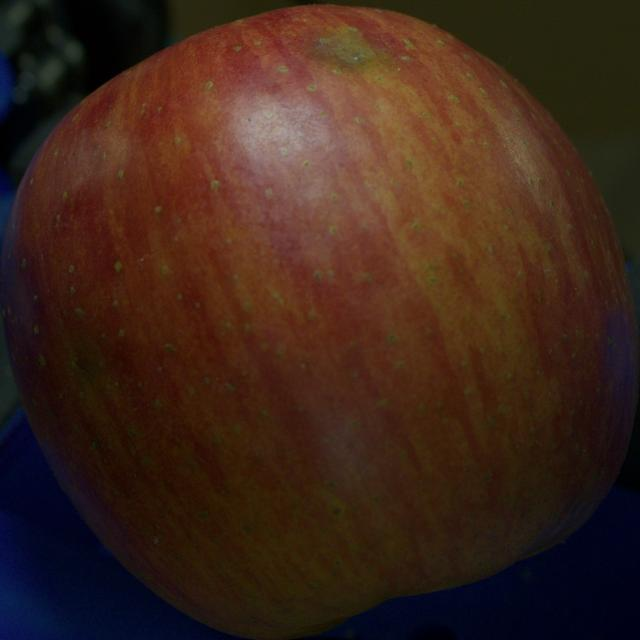apple: (0, 6, 638, 639)
bruise: (307, 23, 399, 76)
